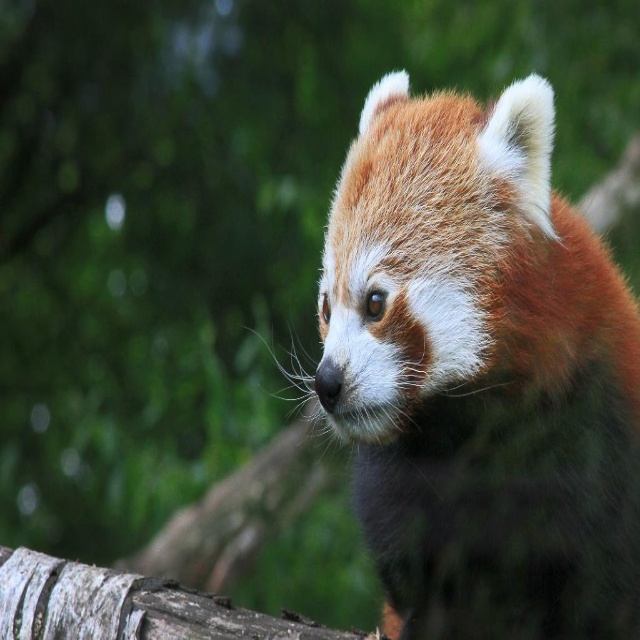Red panda: (240, 73, 640, 639)
